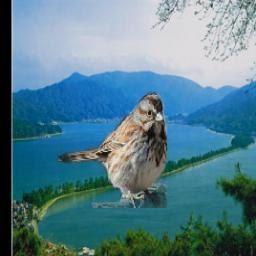Sparrow: (56, 92, 167, 208)
